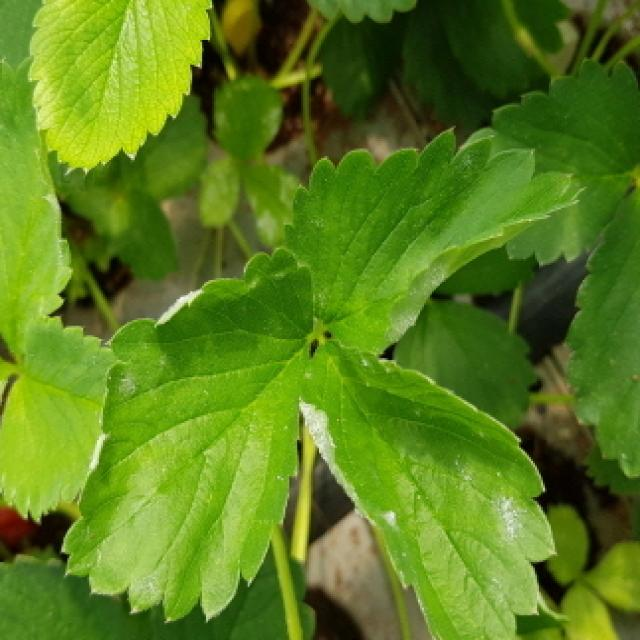Powdery Mildew Leaf: (64, 240, 322, 625), (295, 335, 559, 640), (281, 125, 591, 356)
